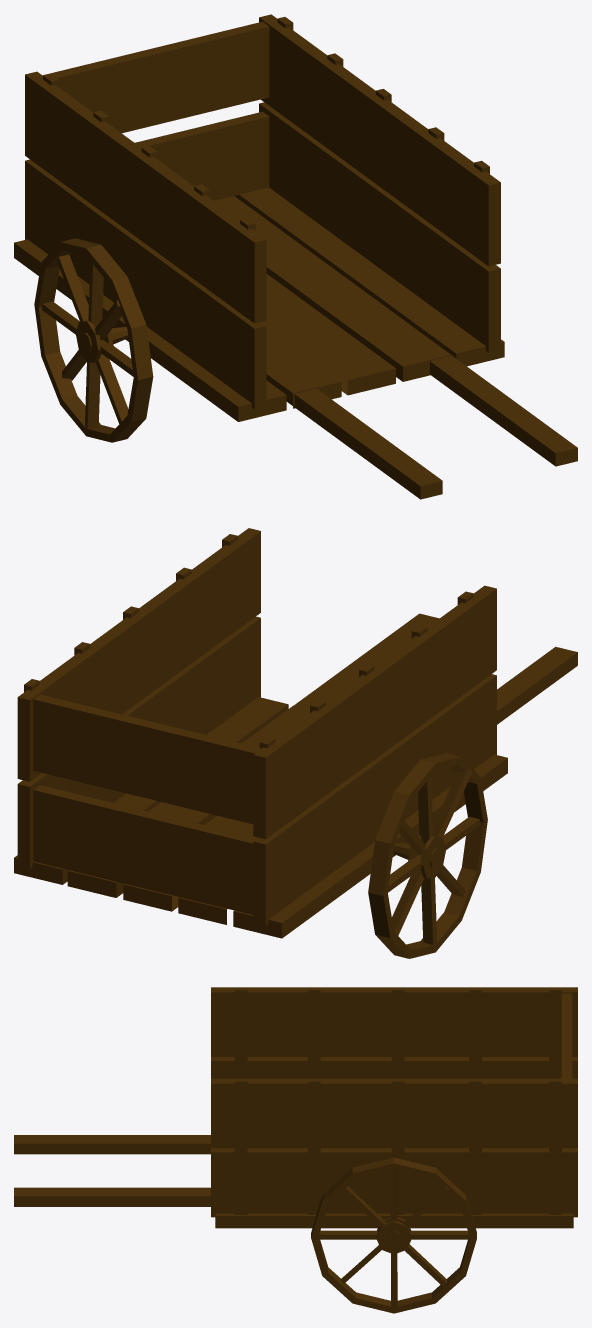
File: I_Hay_Cart.fbx
3 views of the same model, one above another, from view 1: azimuth 30°, elevation 25°; view 2: azimuth 150°, elevation 25°; view 3: azimuth 270°, elevation 25° (orthographic). The views are drawn at different scales.
Parts seen in each view (by area): view 1: Cube.001; view 2: Cube.001; view 3: Cube.001.
Boxes of the visible parts, <box> form: Cube.001: <box>14,14,577,499</box>; Cube.001: <box>14,528,577,958</box>; Cube.001: <box>14,987,577,1313</box>.
Size of the model in its own units: 192 by 139 by 331.
